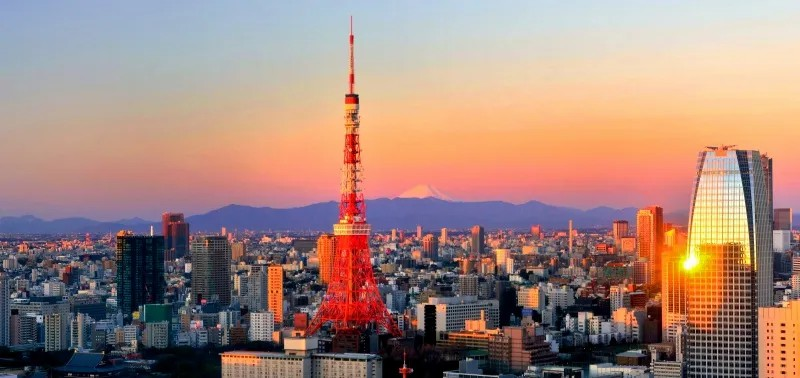Tokyo: (302, 11, 404, 342)
